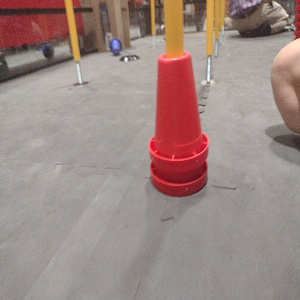Blue_1: (109, 36, 123, 56)
Red_2: (146, 52, 210, 197)
